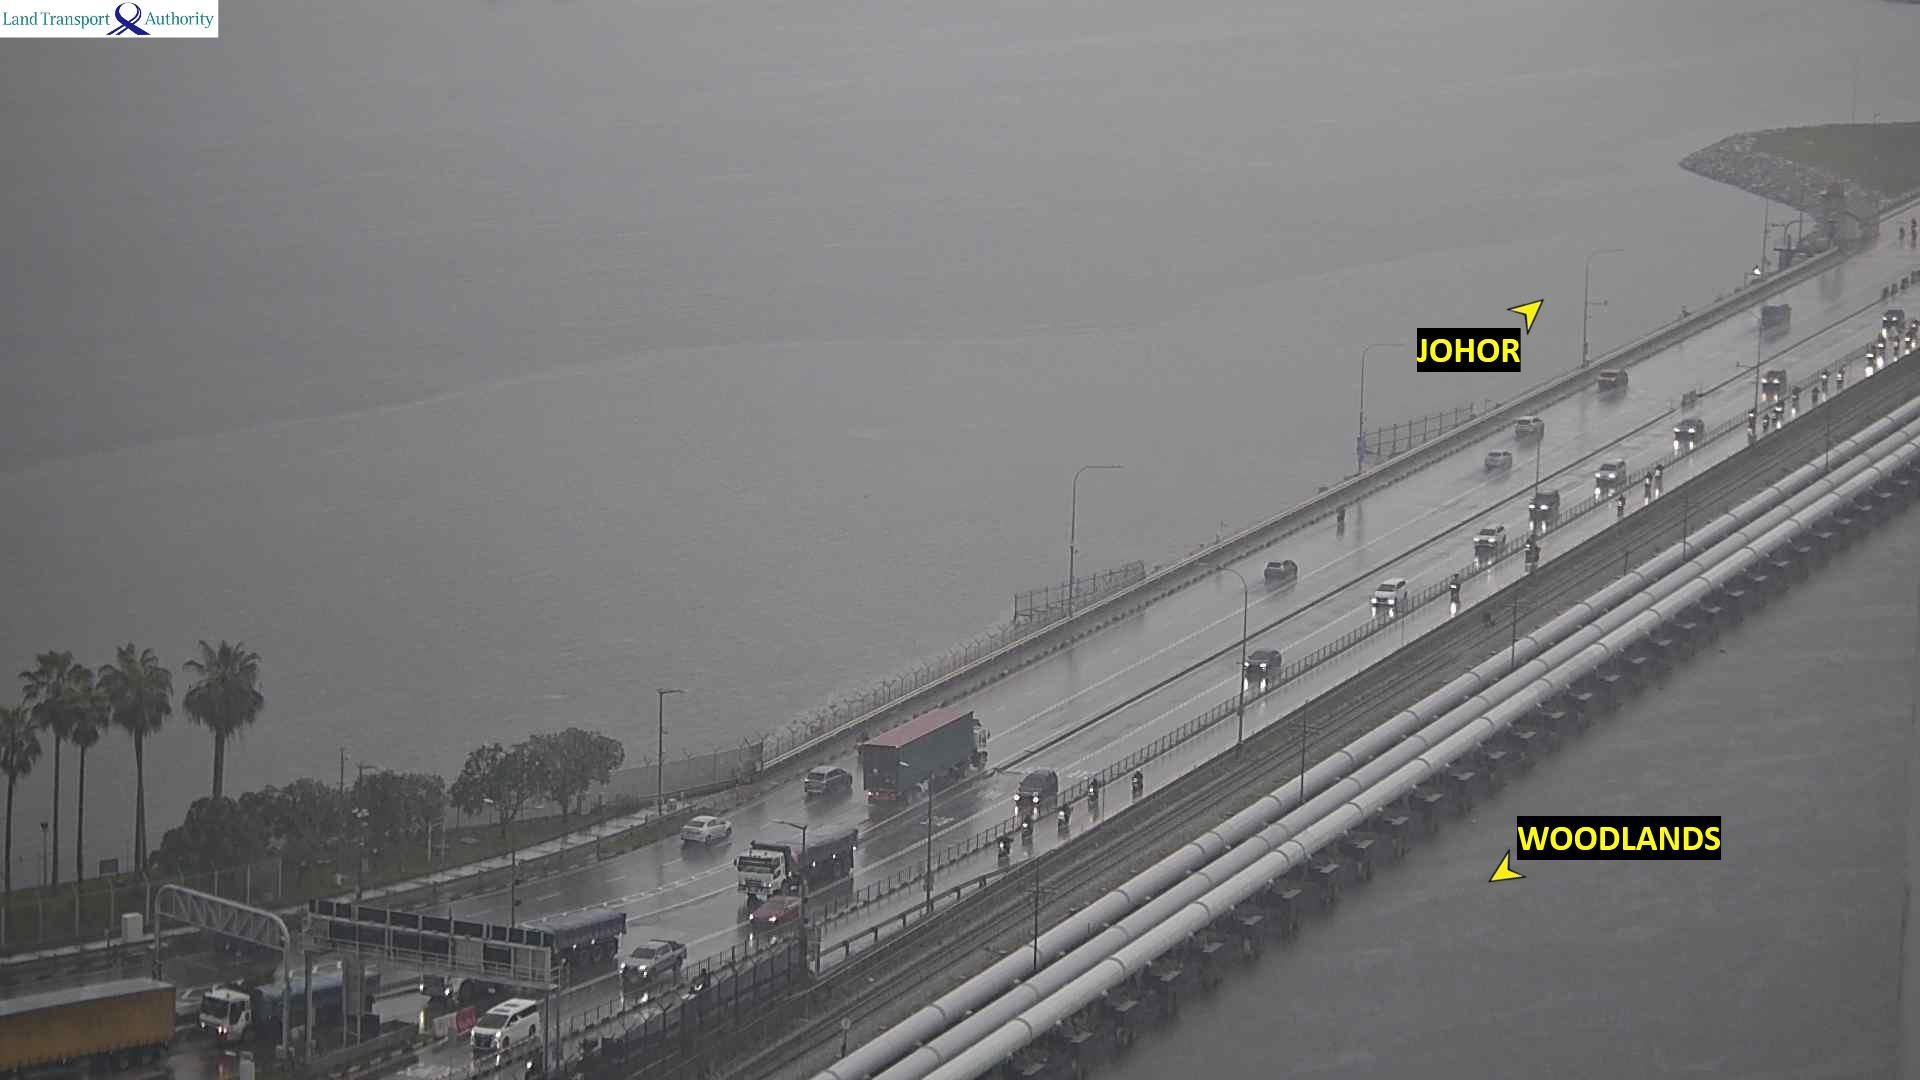vehicle-causeway-johor: (858, 709, 977, 781), (684, 823, 735, 847), (808, 768, 852, 786), (1263, 561, 1301, 581), (1761, 302, 1795, 322), (1510, 417, 1544, 434), (1598, 369, 1626, 389), (1486, 449, 1511, 466), (1336, 503, 1347, 525)
vehicle-causeway-singapore: (0, 978, 217, 1072), (200, 972, 530, 1029), (471, 910, 622, 979), (740, 826, 861, 889), (474, 1000, 546, 1039), (622, 943, 690, 976), (1012, 768, 1058, 807), (754, 896, 803, 929), (1246, 648, 1284, 675), (1371, 586, 1407, 607), (1597, 459, 1624, 487), (1674, 419, 1707, 437), (1763, 369, 1784, 395), (1534, 495, 1561, 514), (1524, 536, 1541, 566), (1477, 528, 1505, 546), (1129, 768, 1145, 795), (1447, 574, 1460, 607), (1060, 803, 1074, 833), (1086, 776, 1099, 806), (997, 832, 1012, 858), (1882, 308, 1903, 326), (1020, 815, 1033, 841), (1615, 494, 1626, 520), (1830, 368, 1844, 388), (1653, 461, 1665, 480), (1643, 470, 1649, 505), (1745, 408, 1755, 424), (1791, 388, 1799, 404), (1820, 370, 1827, 386), (1762, 415, 1768, 430)
